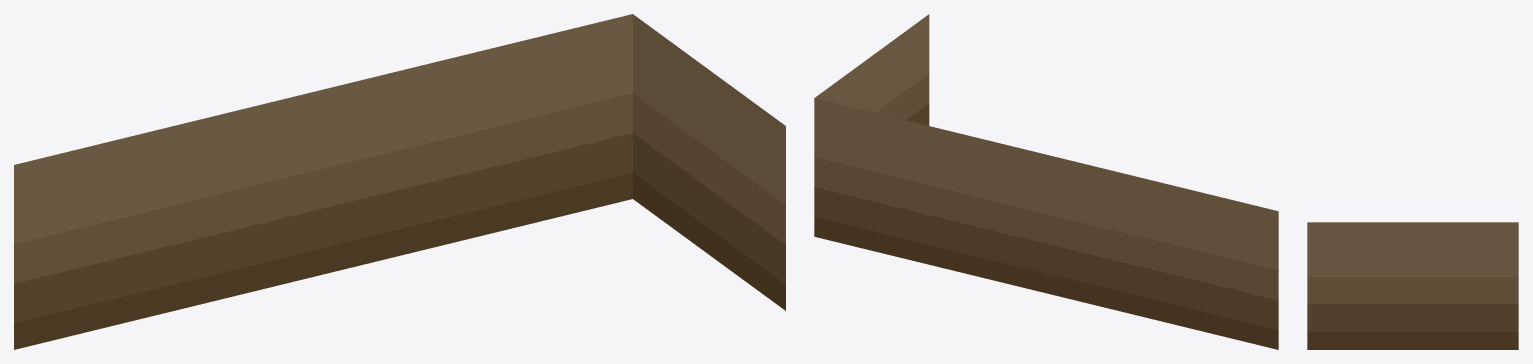
3 renders of one model, left to right at view 1: azimuth 30°, elevation 25°; view 2: azimuth 150°, elevation 25°; view 3: azimuth 270°, elevation 25°, orthographic. The views are drawn at different scales.
Bounding box in the file's own units: 0.875 × 0.25 × 0.375.
Materials: 1 (1 with a texture image).
